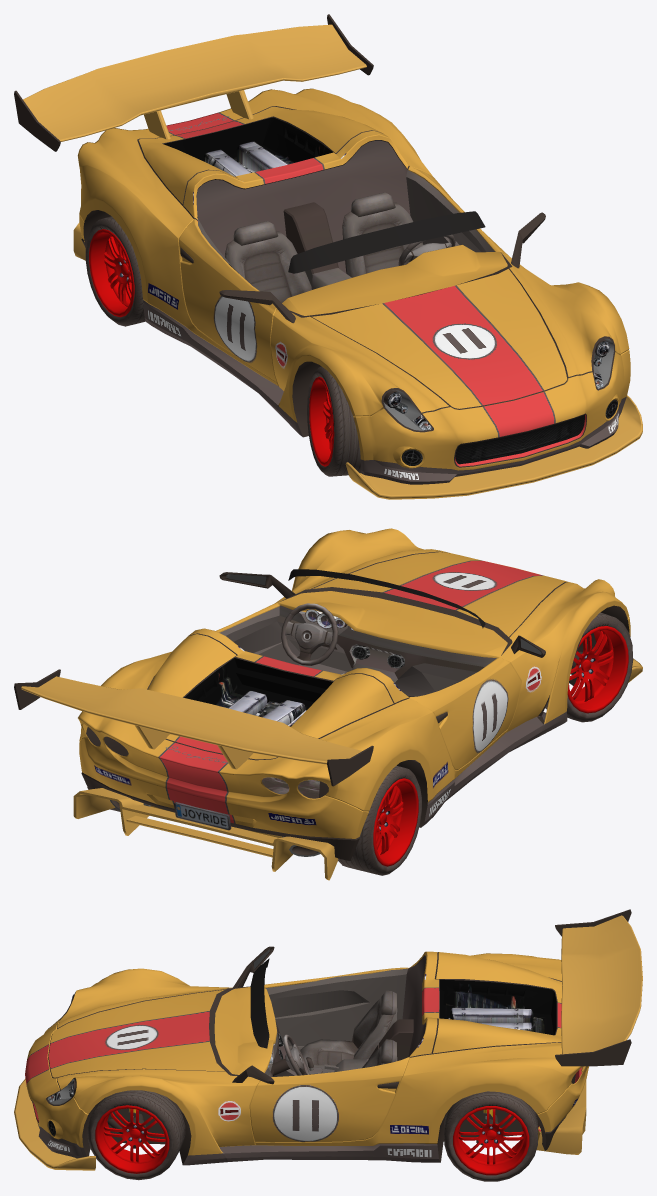
The model's file is carcar.glb.
3 views of the same model, one above another, from view 1: azimuth 30°, elevation 25°; view 2: azimuth 150°, elevation 25°; view 3: azimuth 270°, elevation 25° (orthographic). The views are drawn at different scales.
Parts seen in each view (by area): view 1: node_id128, node_id121, node_id150, node_id65, node_id76, node_id126, node_id130, node_id144, node_id114, node_id134, node_id111, node_id107 (+5 smaller); view 2: node_id128, node_id121, node_id150, node_id130, node_id126, node_id78, node_id107, node_id114, node_id67, node_id118, node_id123, node_id144 (+5 smaller); view 3: node_id128, node_id150, node_id121, node_id126, node_id130, node_id65, node_id100, node_id93, node_id76, node_id97, node_id104, node_id123 (+7 smaller).
Part boxes in pixels (left/top/right/bottom): node_id128: left=77, top=88, right=630, bottom=484; node_id121: left=23, top=24, right=366, bottom=141; node_id150: left=196, top=140, right=494, bottom=289; node_id65: left=225, top=192, right=423, bottom=302; node_id76: left=345, top=395, right=642, bottom=499; node_id126: left=163, top=117, right=332, bottom=176; node_id130: left=81, top=106, right=615, bottom=467; node_id144: left=288, top=211, right=485, bottom=273; node_id114: left=89, top=229, right=134, bottom=317; node_id134: left=455, top=415, right=584, bottom=464; node_id111: left=315, top=366, right=361, bottom=476; node_id107: left=309, top=376, right=334, bottom=466; node_id128: left=78, top=528, right=630, bottom=838; node_id121: left=21, top=676, right=361, bottom=769; node_id150: left=220, top=605, right=496, bottom=697; node_id130: left=81, top=551, right=629, bottom=860; node_id126: left=184, top=658, right=332, bottom=726; node_id78: left=73, top=788, right=338, bottom=880; node_id107: left=567, top=626, right=628, bottom=713; node_id114: left=373, top=778, right=418, bottom=866; node_id67: left=281, top=603, right=338, bottom=665; node_id118: left=338, top=765, right=416, bottom=875; node_id123: left=14, top=669, right=373, bottom=786; node_id144: left=288, top=569, right=485, bottom=628; node_id128: left=25, top=951, right=588, bottom=1165; node_id150: left=265, top=956, right=425, bottom=1076; node_id121: left=561, top=915, right=642, bottom=1054; node_id126: left=440, top=979, right=556, bottom=1035; node_id130: left=29, top=952, right=575, bottom=1164; node_id65: left=300, top=990, right=397, bottom=1068; node_id100: left=453, top=1106, right=529, bottom=1175; node_id93: left=95, top=1105, right=169, bottom=1173; node_id76: left=14, top=1078, right=95, bottom=1170; node_id97: left=87, top=1090, right=185, bottom=1180; node_id104: left=444, top=1091, right=537, bottom=1181; node_id123: left=555, top=909, right=631, bottom=1066.
Size of the model in its own units: 0.512 by 0.2669 by 1.01.
Materials: 44 (44 with a texture image).
